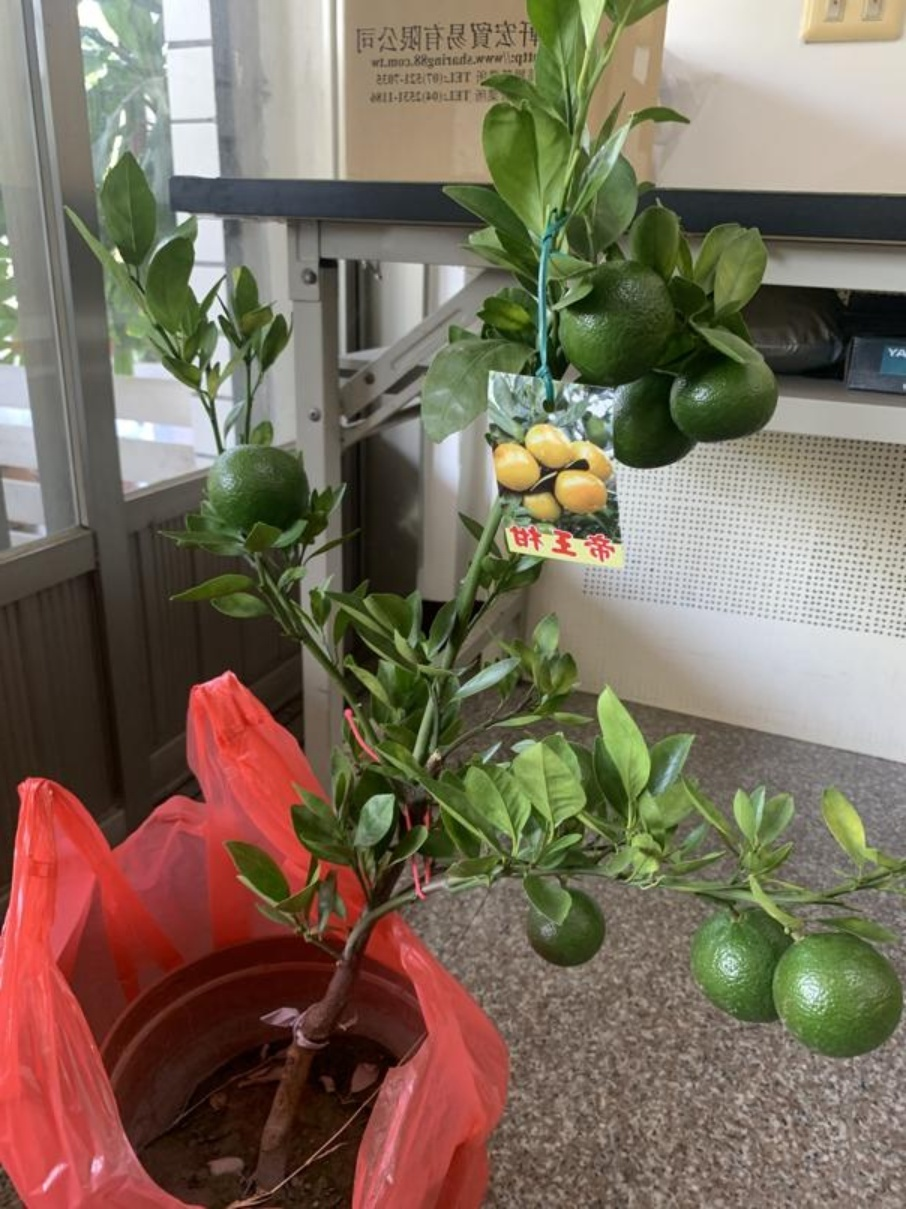Tangerine: (770, 923, 902, 1059), (681, 899, 796, 1030), (563, 260, 677, 386), (671, 338, 780, 447), (209, 441, 312, 538), (524, 882, 606, 971), (618, 379, 695, 469)
